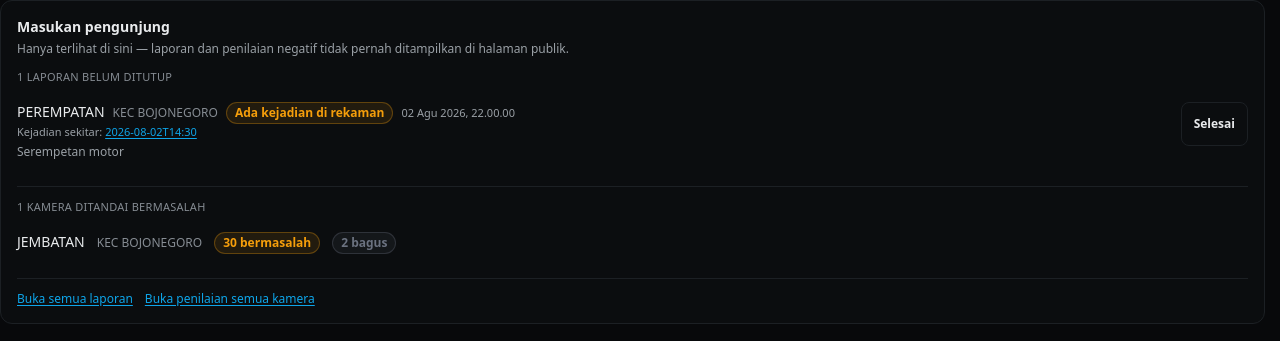
CameraFeedbackPanel — reports › closes a report and drops it from the list
The width and height of the screenshot is (1280, 341).
Expected: the text "PEREMPATAN" is shown, [17,102,105,122]
What coordinates should you click on to do the following:
click the button "Selesai"
I would click on:
 (1214, 124)
Its box is [1181,102,1248,146].
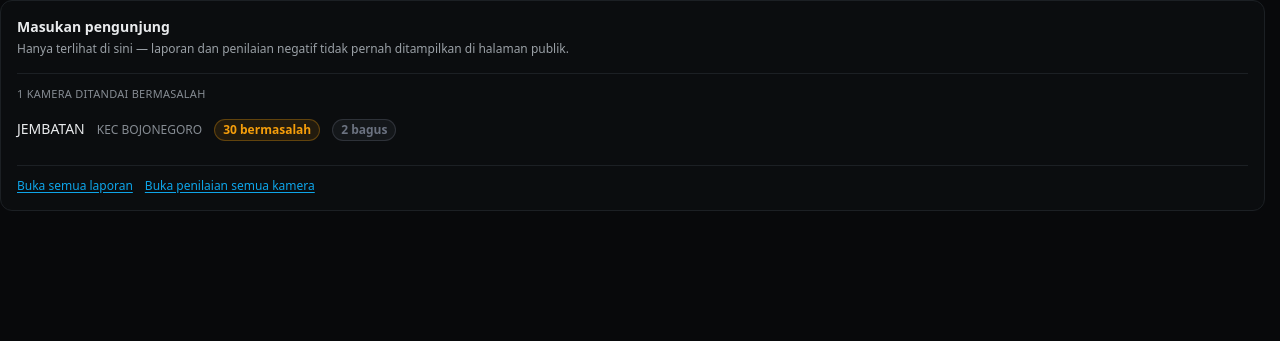
Expected: the text "PEREMPATAN" is gone
